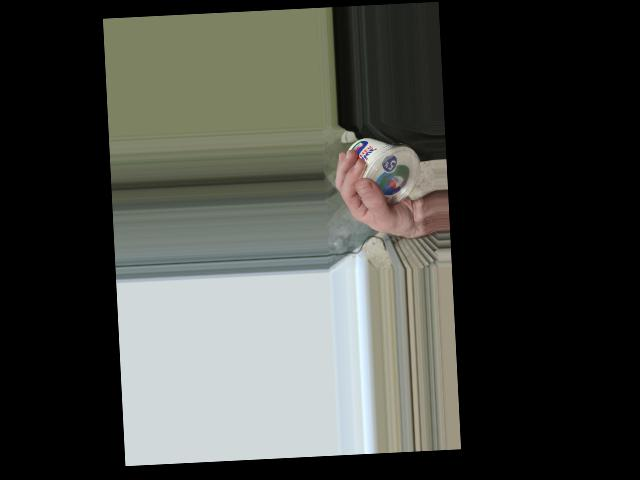cotage: (342, 135, 424, 205)
